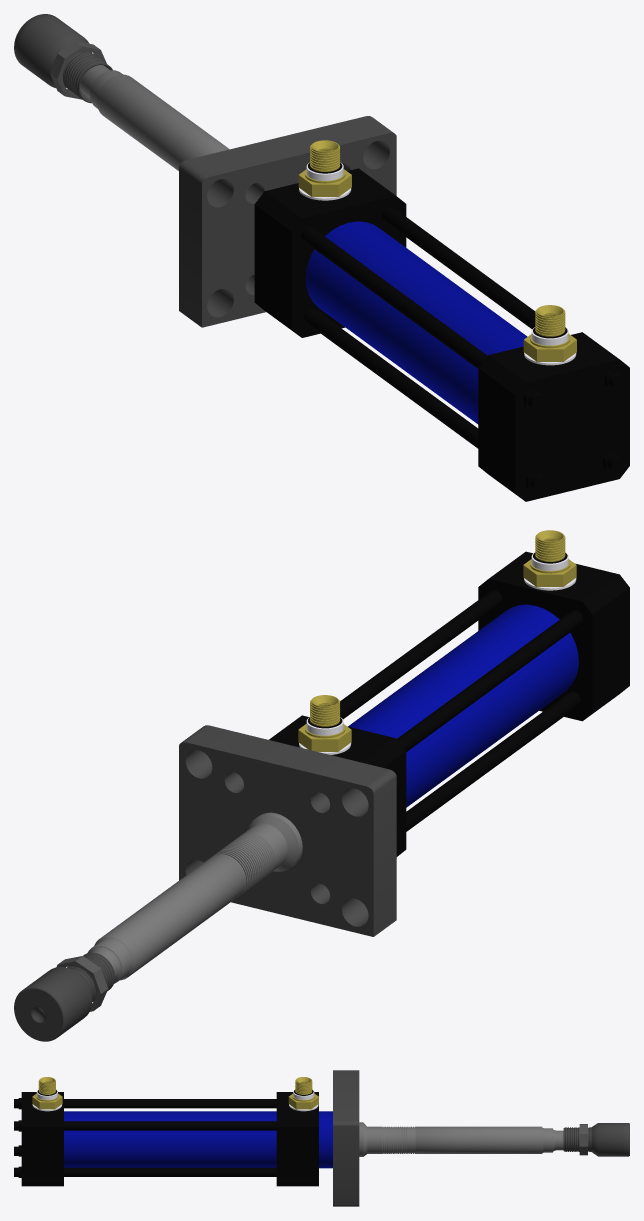
3 views of the same model, one above another, from view 1: azimuth 30°, elevation 25°; view 2: azimuth 150°, elevation 25°; view 3: azimuth 270°, elevation 25° (orthographic). The views are drawn at different scales.
Visible parts, largest first — view 1: Cube.002, Rod Seals, Cylinder, Cylinder.001, Piston Rod, Cylinder.004, Extend Flow Port, Retract Flow Port, Cylinder.003; view 2: Rod Seals, Cylinder, Cube.002, Piston Rod, Cylinder.001, Cylinder.004, Extend Flow Port, Retract Flow Port, Cylinder.003; view 3: Cylinder, Cube.002, Cylinder.001, Piston Rod, Rod Seals, Cylinder.004, Extend Flow Port, Retract Flow Port, Cylinder.003.
Part boxes in pixels (<box>): Cube.002: <box>254,168,629,501</box>; Rod Seals: <box>179,116,396,327</box>; Cylinder: <box>305,221,527,424</box>; Cylinder.001: <box>301,207,626,492</box>; Piston Rod: <box>80,65,229,170</box>; Cylinder.004: <box>14,14,112,103</box>; Extend Flow Port: <box>523,305,576,365</box>; Retract Flow Port: <box>298,140,351,200</box>; Cylinder.003: <box>50,41,106,99</box>; Rod Seals: <box>179,725,396,936</box>; Cylinder: <box>348,604,578,807</box>; Cube.002: <box>269,551,629,856</box>; Piston Rod: <box>87,812,302,983</box>; Cylinder.001: <box>340,590,583,831</box>; Cylinder.004: <box>14,952,115,1041</box>; Extend Flow Port: <box>523,530,576,590</box>; Retract Flow Port: <box>298,695,351,754</box>; Cylinder.003: <box>56,956,108,1011</box>; Cylinder: <box>64,1111,332,1168</box>; Cube.002: <box>21,1092,318,1186</box>; Cylinder.001: <box>14,1099,276,1176</box>; Piston Rod: <box>359,1122,563,1156</box>; Rod Seals: <box>333,1070,359,1206</box>; Cylinder.004: <box>563,1123,629,1156</box>; Extend Flow Port: <box>32,1077,62,1111</box>; Retract Flow Port: <box>288,1077,318,1111</box>; Cylinder.003: <box>579,1124,587,1155</box>.
Size of the model in its own units: 4.01 by 3.48 by 19.29.
Materials: 11 (7 with a texture image).
